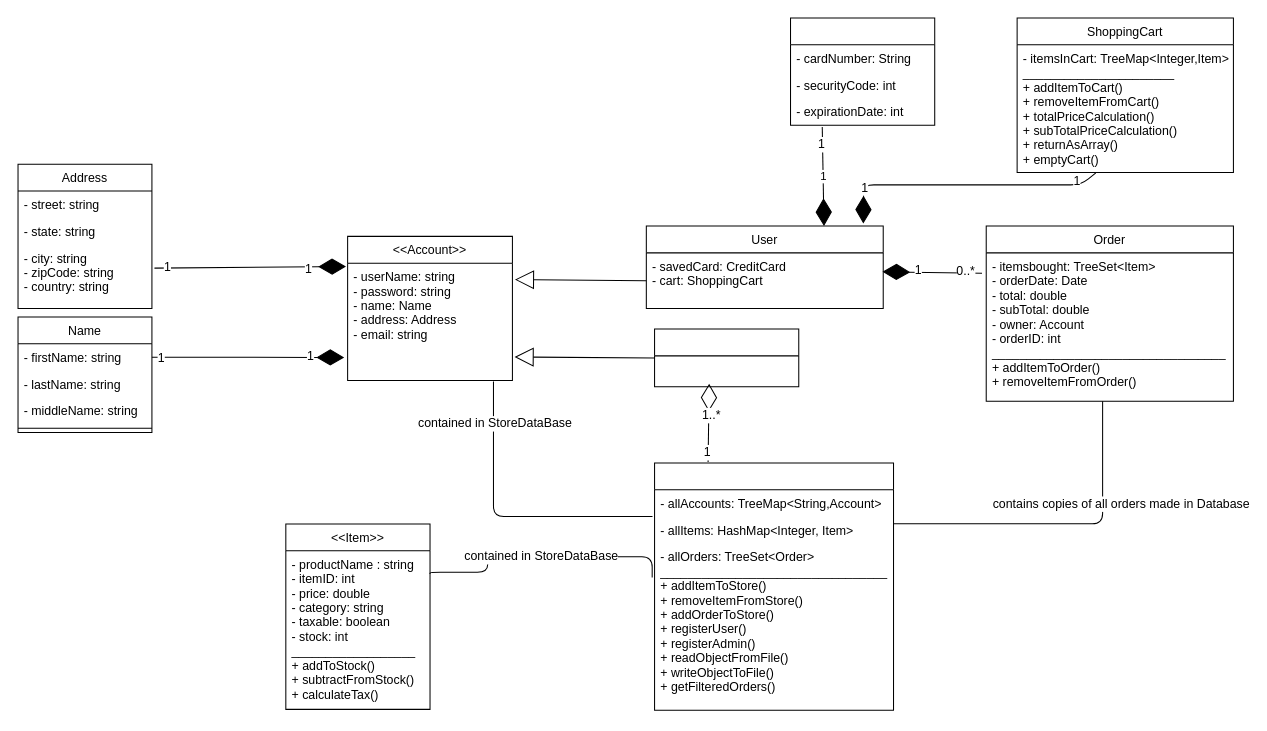
Some shapes in this 1267 by 731 pixel diagram are drawn without their labels. Here are the shapes that lost their labels. From the top down, the box of each, then its label:
(789, 17, 935, 125): CreditCard
(654, 328, 799, 387): Admin
(654, 462, 894, 710): StoreDataBase
